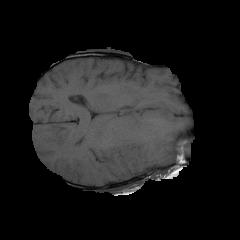glioma: (114, 110, 172, 170)
